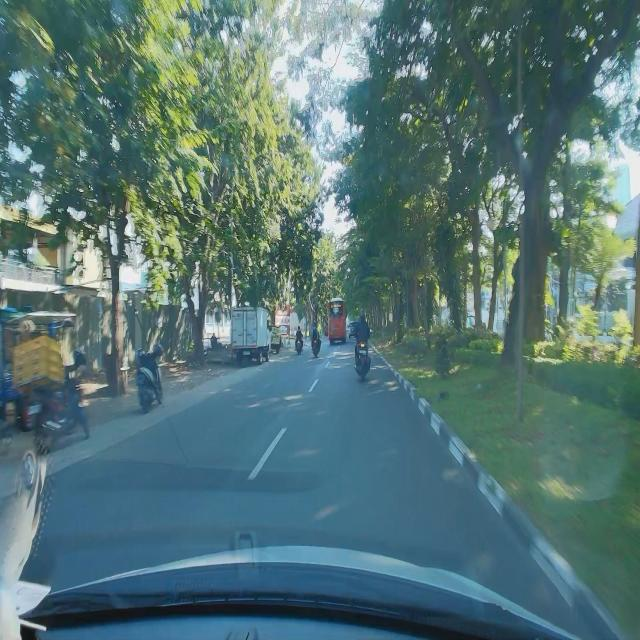bus: (327, 296, 347, 345)
truck: (230, 304, 272, 368)
